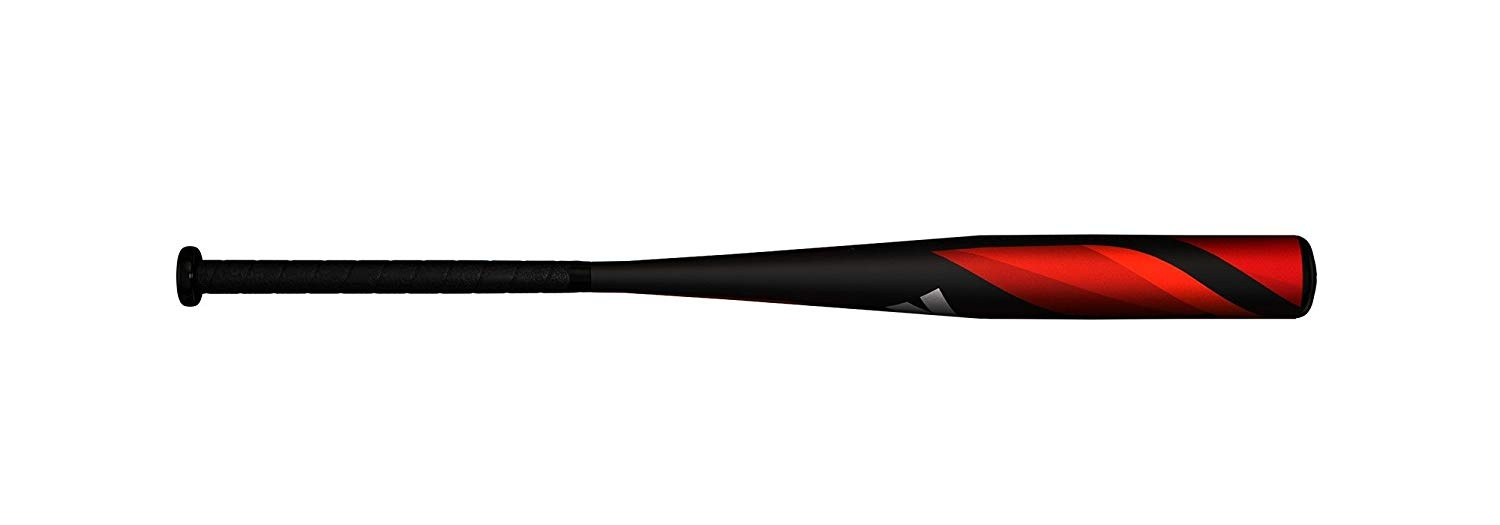bita: (173, 225, 1307, 349)
